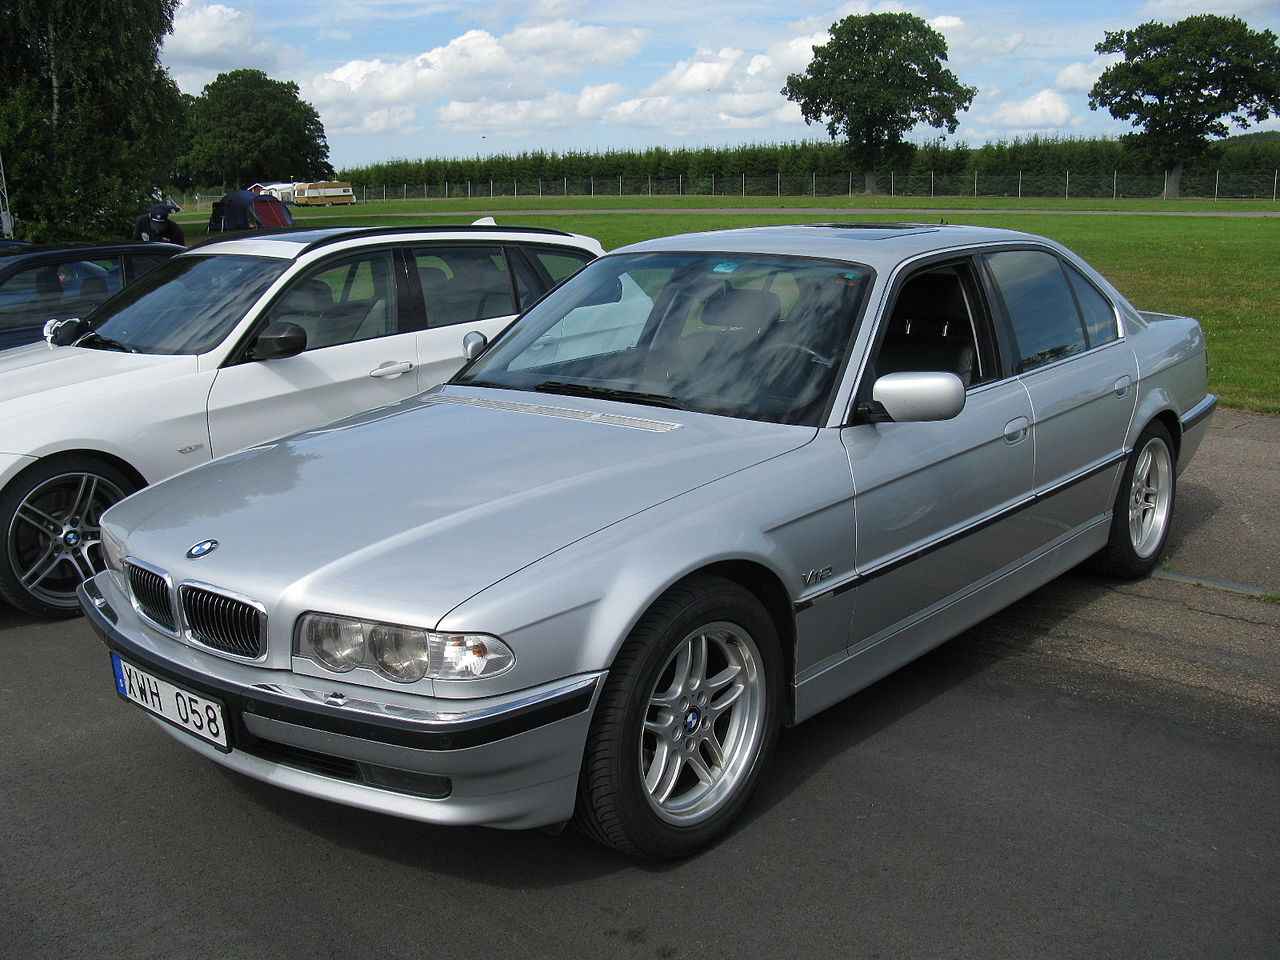plate: (108, 647, 234, 754)
